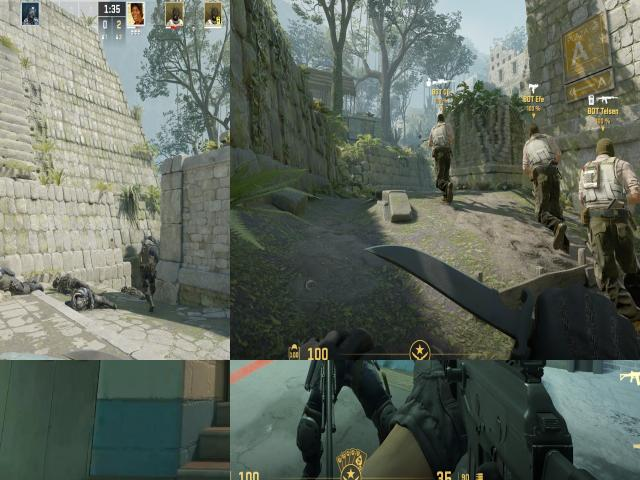Bomb: (581, 158, 607, 197)
CT: (308, 360, 379, 477), (139, 233, 160, 317)
CT-Head: (142, 234, 156, 248)
Dead: (64, 285, 114, 319), (0, 267, 40, 302), (48, 274, 87, 293), (118, 278, 144, 300)
T: (581, 131, 640, 303), (524, 121, 563, 243), (426, 111, 460, 200)
T-Head: (593, 132, 619, 164), (523, 123, 543, 142), (437, 112, 448, 128)
